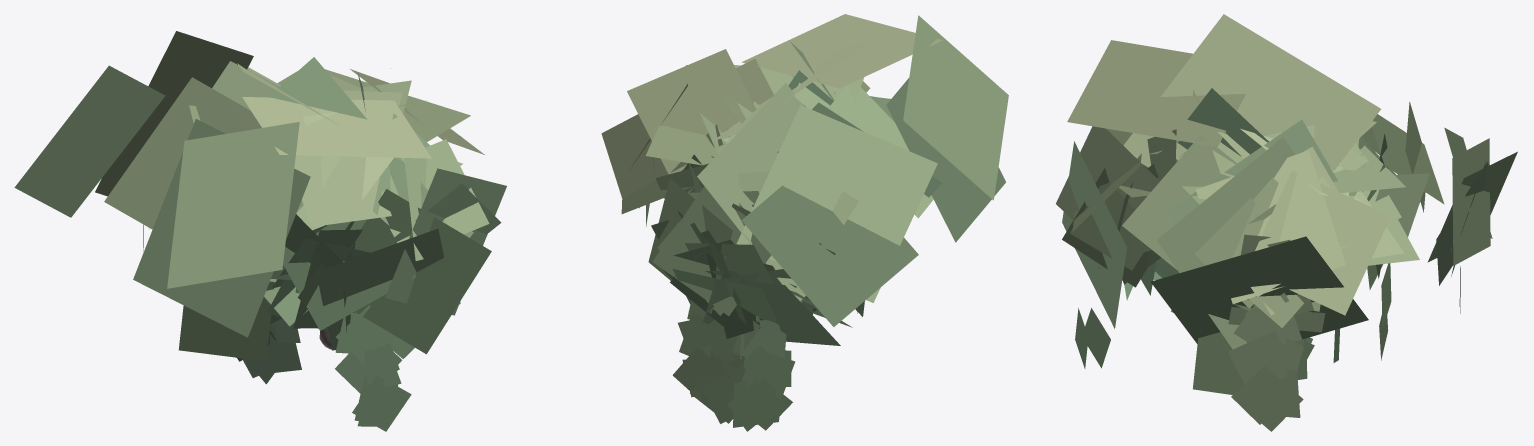
The model's file is willow_v3.glb.
3 views of the same model, side by side, from view 1: azimuth 30°, elevation 25°; view 2: azimuth 150°, elevation 25°; view 3: azimuth 270°, elevation 25° (orthographic). The views are drawn at different scales.
Parts seen in each view (by area): view 1: far, near; view 2: far, near; view 3: far, near.
Part boxes in pixels (box(x1,y1,x2,y2)): far: box(14, 31, 506, 361); near: box(143, 69, 491, 431); far: box(621, 14, 1008, 326); near: box(601, 58, 894, 431); far: box(1062, 14, 1419, 394); near: box(1056, 90, 1517, 431).
Bounding box in the file's own units: 14.27 × 11.5 × 14.99.
